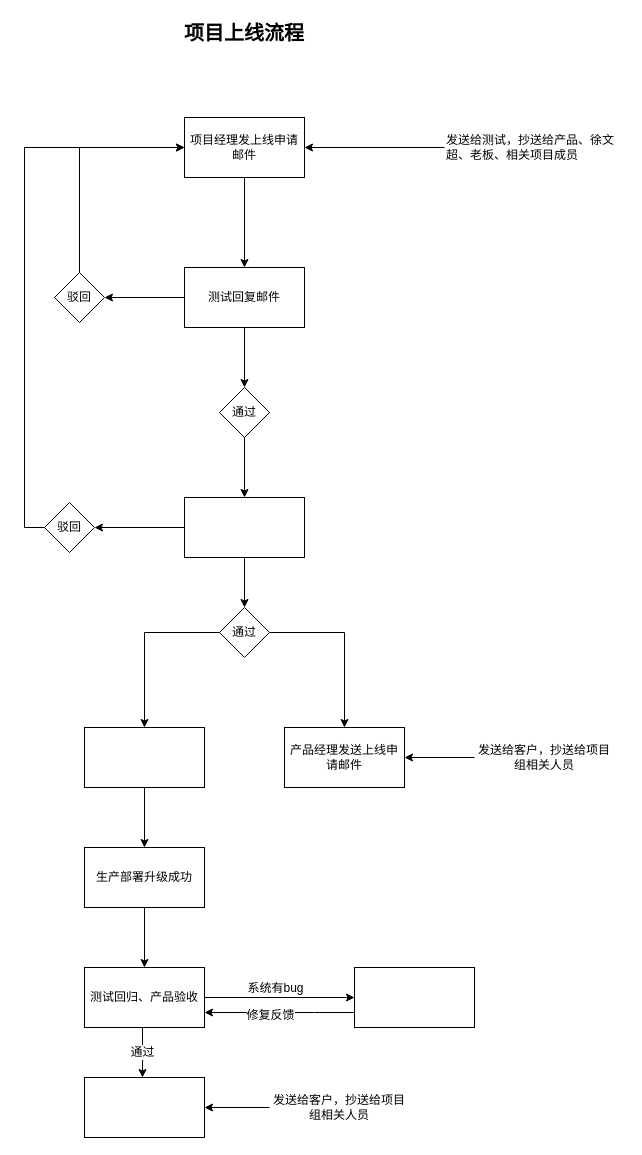
Image size: 642x1155. Some labels were removed from this diagram. Each missing label, with the centre of its shape:
"产品回复邮件" belongs at point (244, 527).
"产品经理发送上线成功邮件" belongs at point (144, 1107).
"开发修复" belongs at point (414, 997).
"项目经理实施上线" belongs at point (144, 757).
